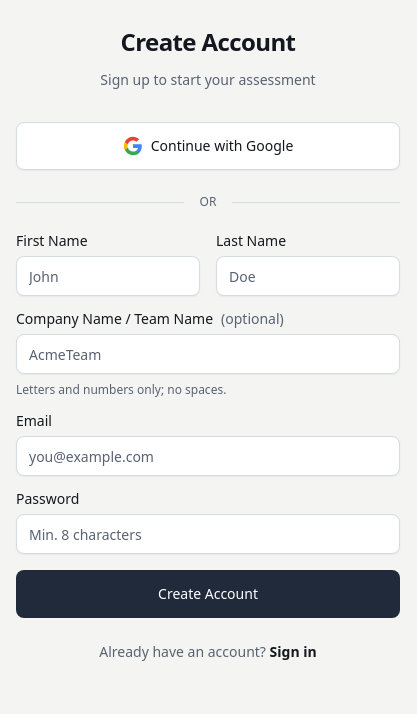
Scenario: signup page recovery › announces Google sign-in failure without an unhandled rejection
The width and height of the screenshot is (417, 714).
Click the button "Continue with Google".
click(208, 146)  # box [16, 122, 400, 170]
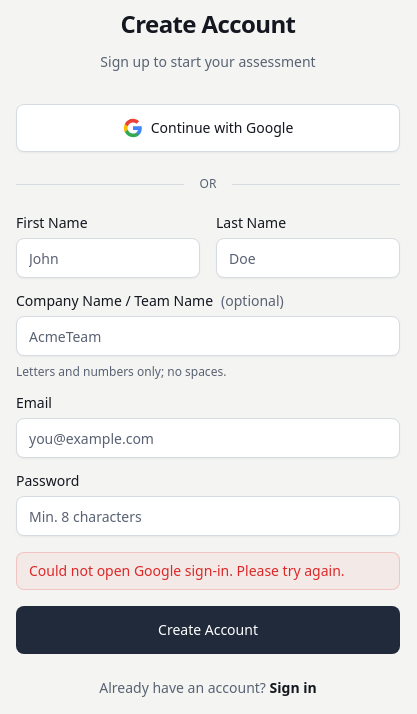
Now the message shows "try again", box [29, 561, 345, 580]
